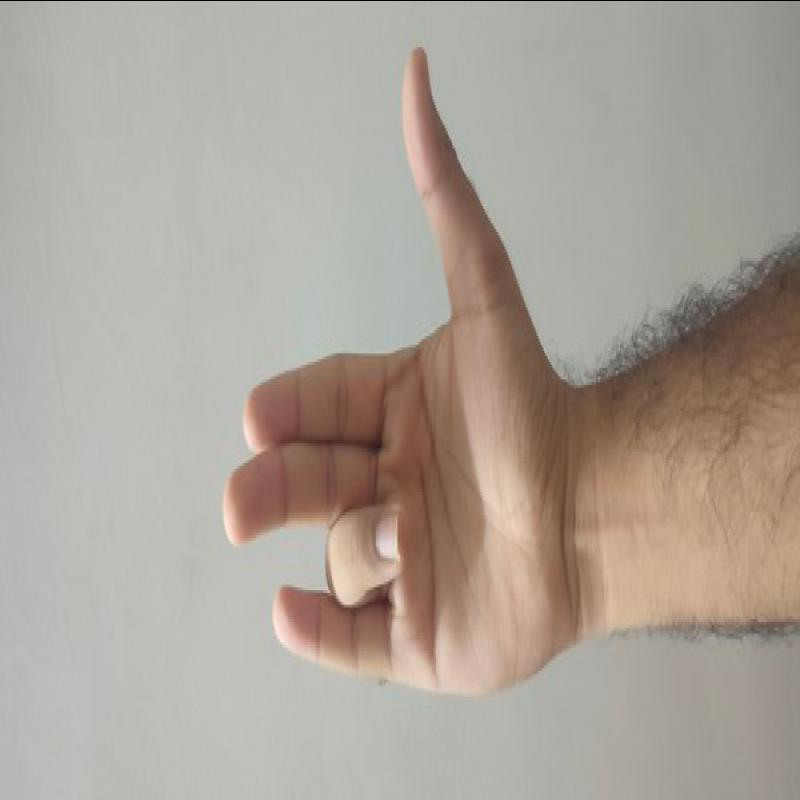Pathaaka: (213, 36, 596, 709)
